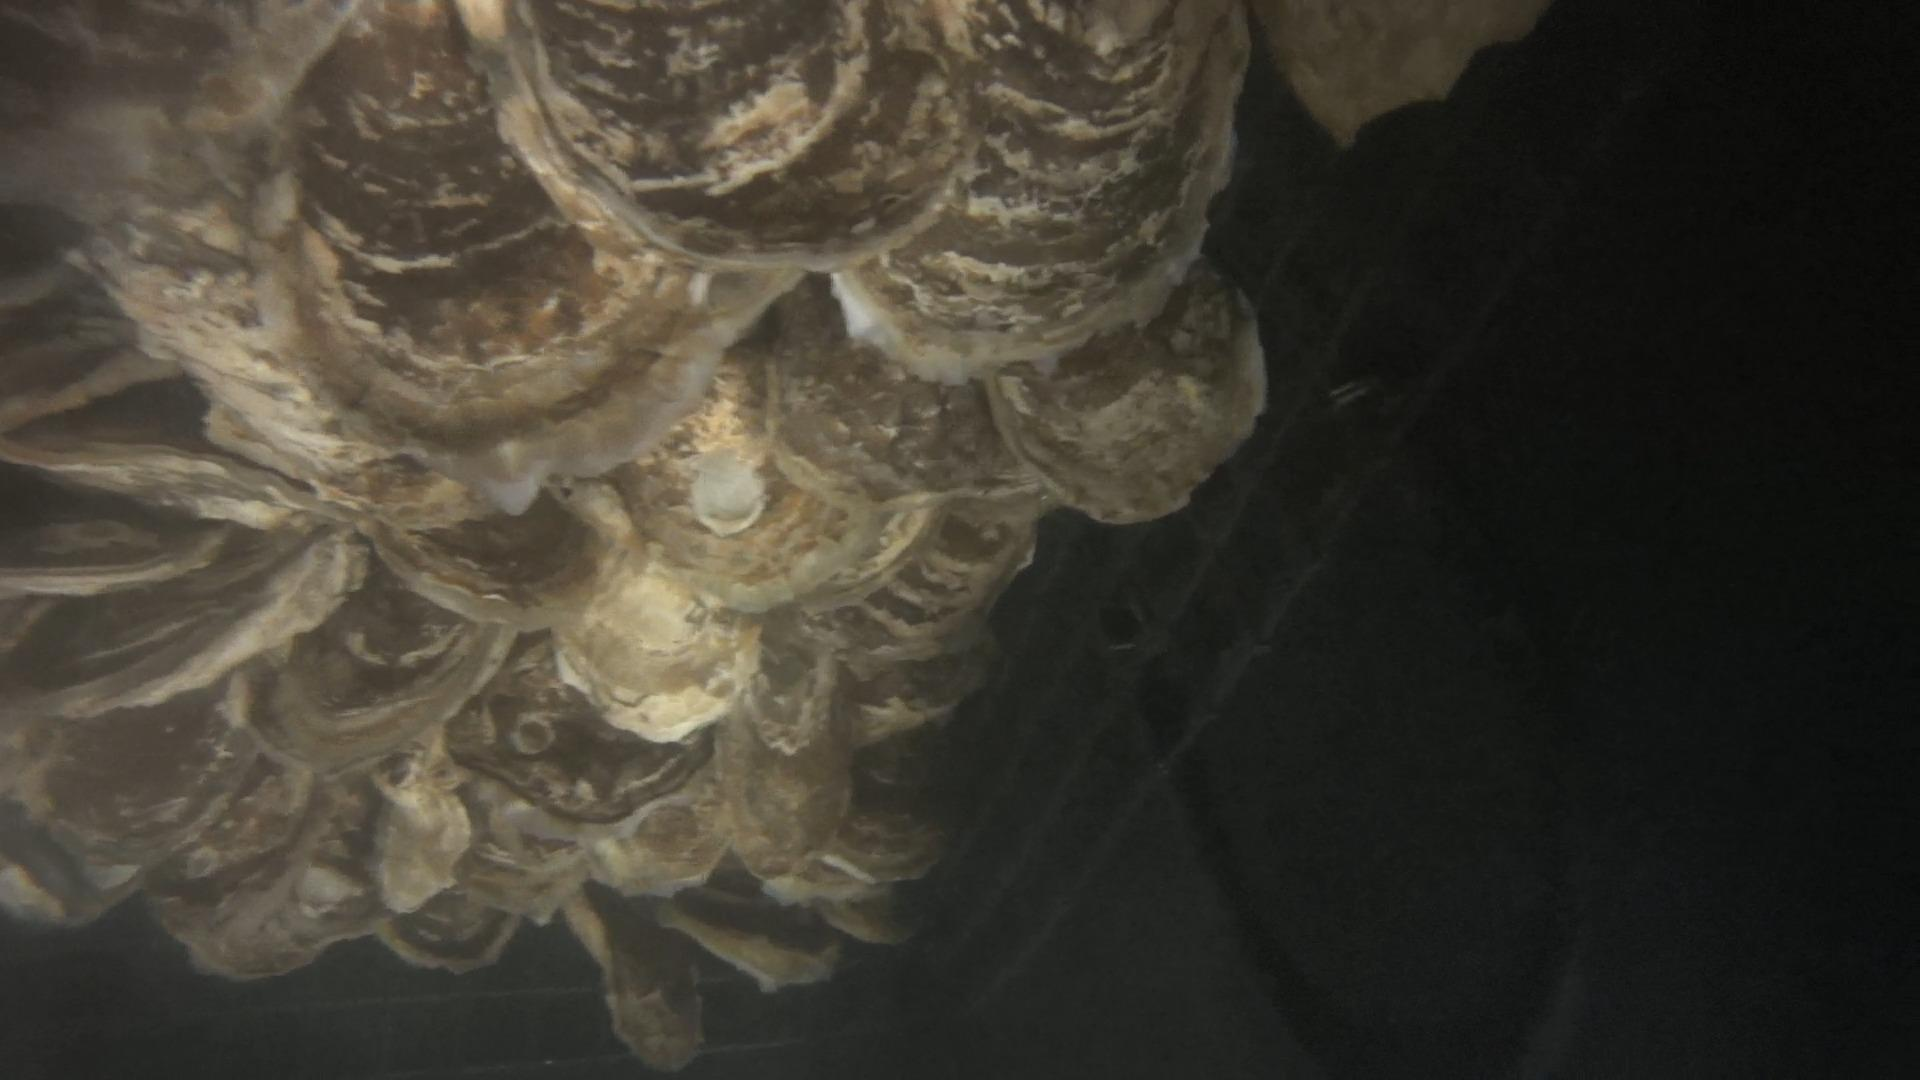3: (0, 1, 492, 527), (295, 0, 789, 508), (836, 0, 1251, 378), (506, 0, 963, 266), (612, 338, 936, 612), (0, 526, 367, 717), (771, 280, 1033, 502), (0, 380, 345, 527), (0, 684, 255, 865), (157, 783, 385, 977), (368, 492, 603, 630), (0, 506, 229, 599), (454, 775, 587, 923), (585, 770, 727, 895), (742, 611, 837, 756), (377, 887, 520, 973), (822, 810, 945, 882)
Oyster- Indeterminate: (225, 560, 512, 773), (444, 632, 712, 843), (553, 481, 760, 742), (810, 504, 1027, 746), (371, 731, 469, 914), (167, 756, 310, 882)
Oyster-Closed: (986, 262, 1266, 521), (562, 884, 702, 1072), (657, 855, 841, 993)
